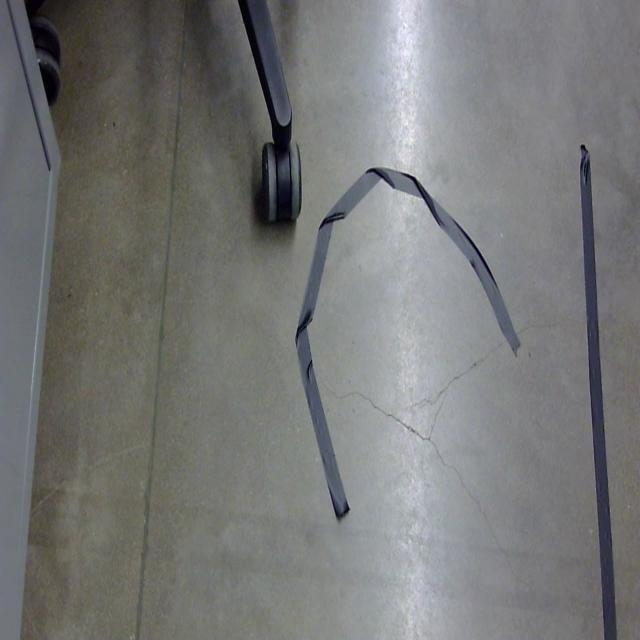tape: (285, 141, 541, 552), (574, 127, 635, 640)
